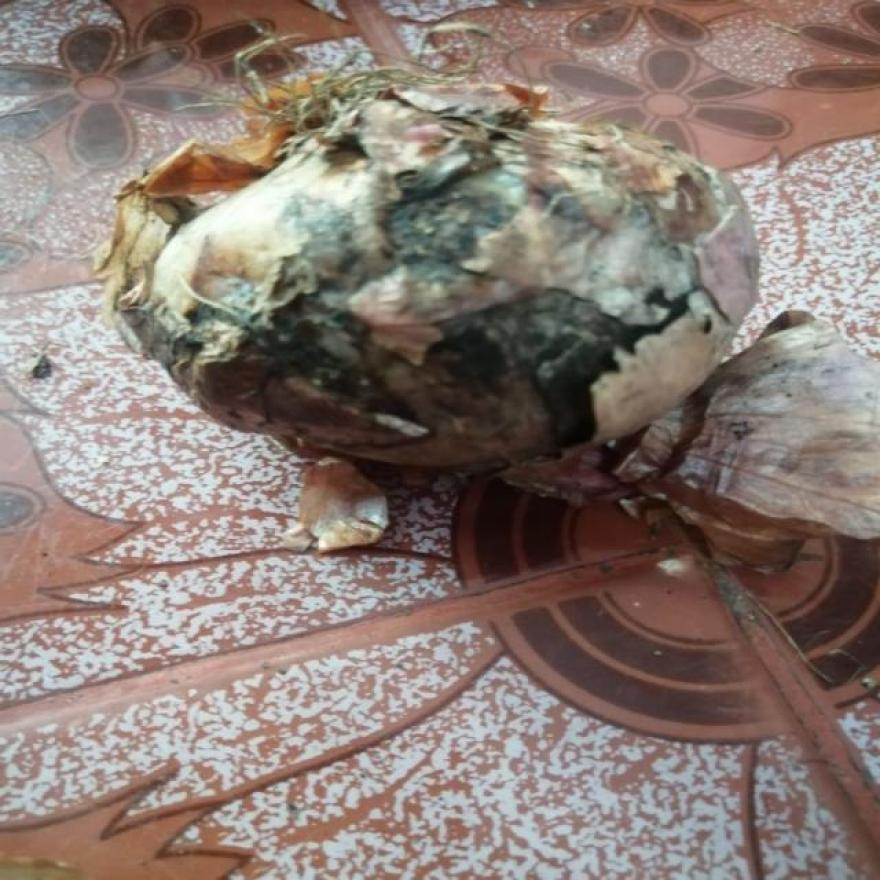Rotten: (157, 184, 566, 374)
